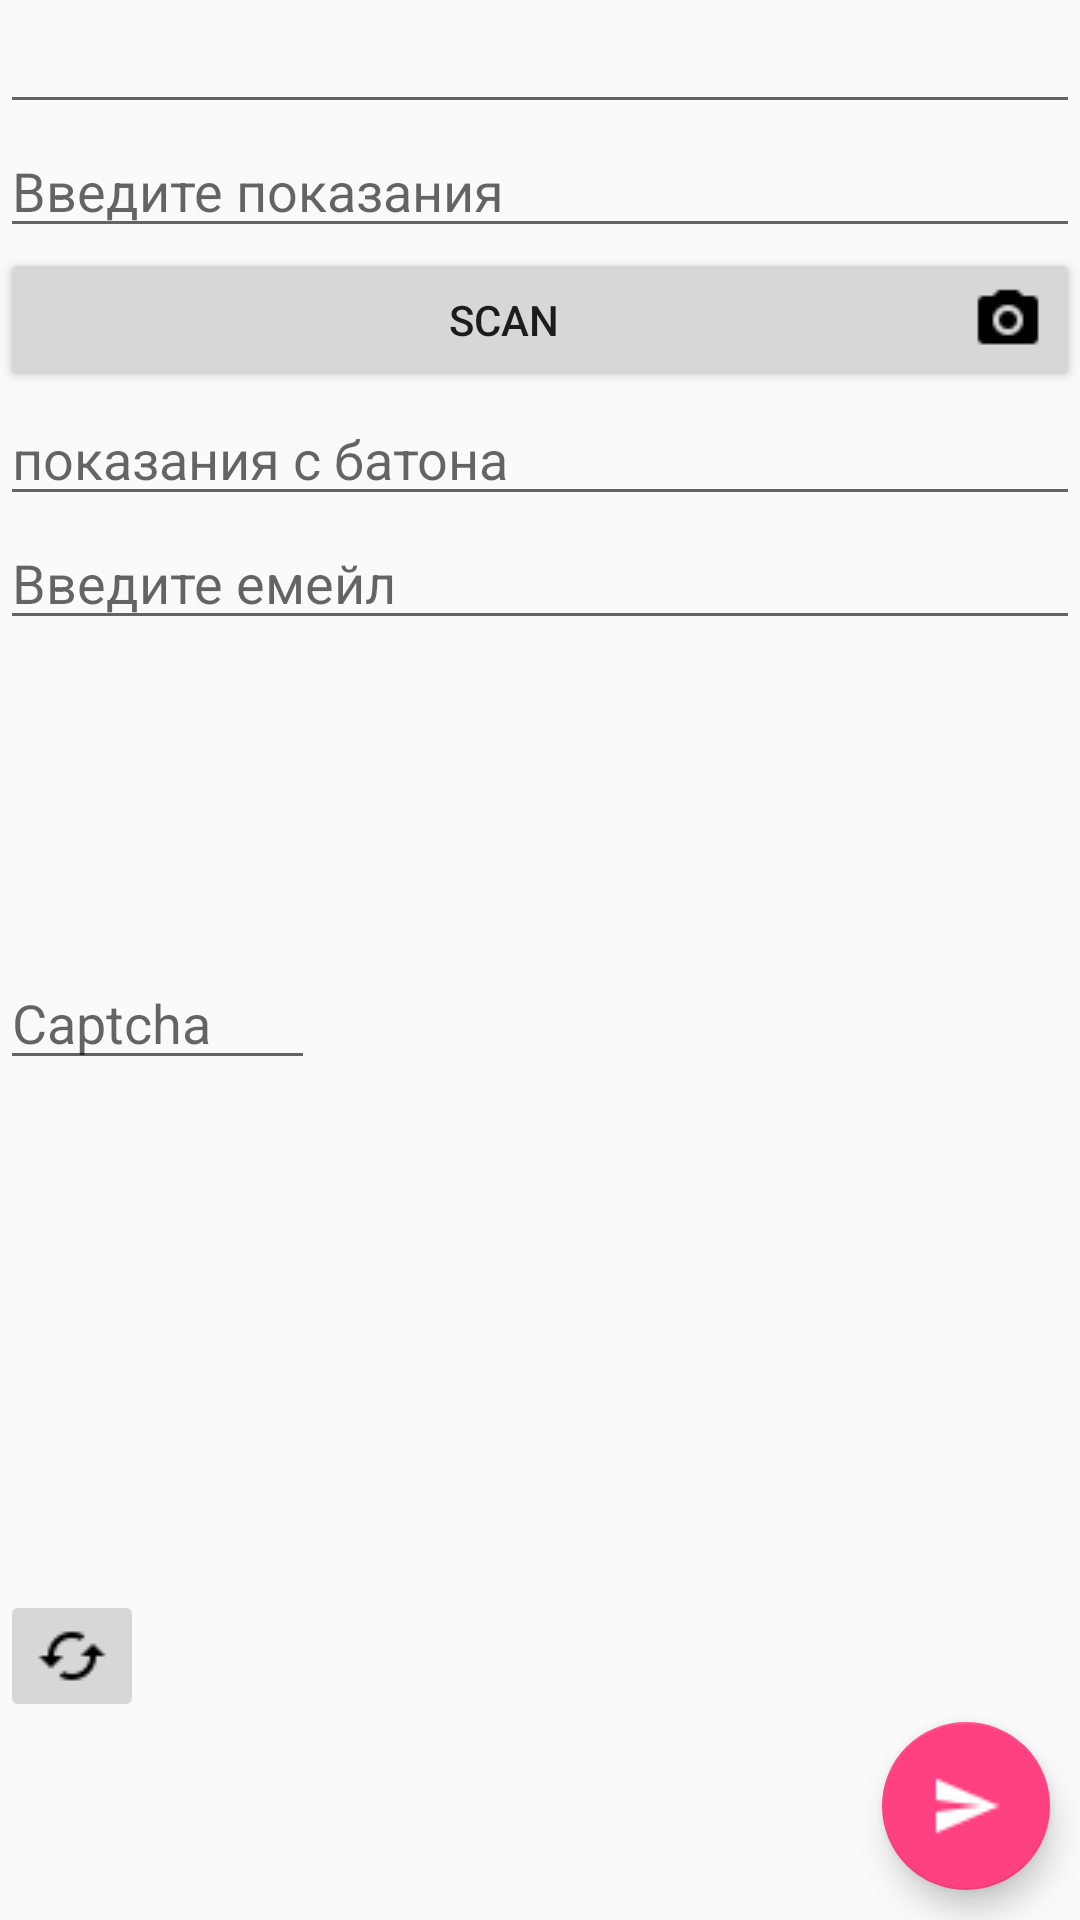

Icon bounding boxes for this 1080 x 1920 phone screenshot, format [left=x1, top=y1, right=x2, bottom=y2]:
cached: [left=12, top=1608, right=132, bottom=1704]
send: [left=882, top=1722, right=1050, bottom=1890]
